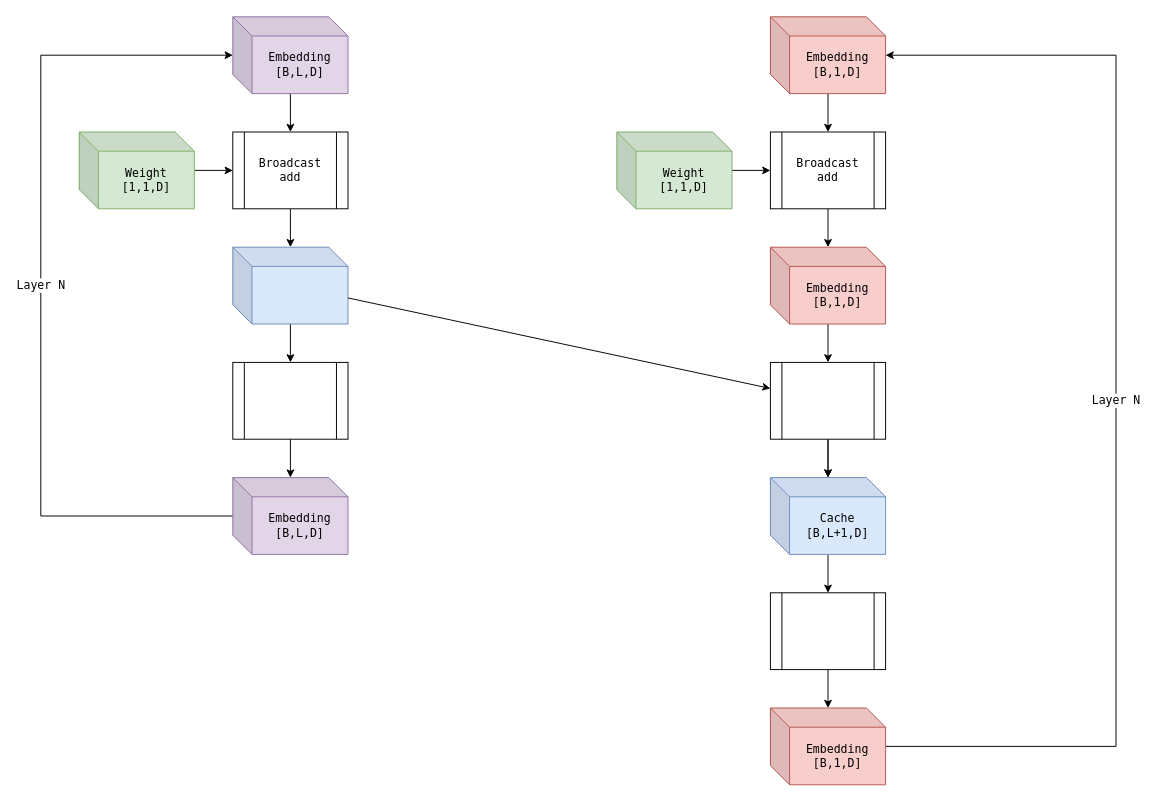
The diagram is 1157 pixels wide and 802 high, and some of its shapes have lost their labels. The shapes that lost their labels are listed below. From the top down, each one's centre as x and y in pixels, then its label:
At point 290,285: "Cache [B,L,D]".
At point 290,400: "Rolling average".
At point 827,400: "Concatenate".
At point 827,631: "Average".
